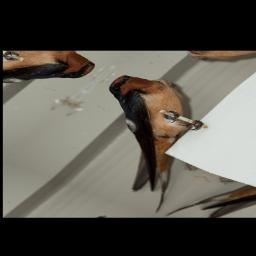Swallow: (17, 69, 256, 213)
